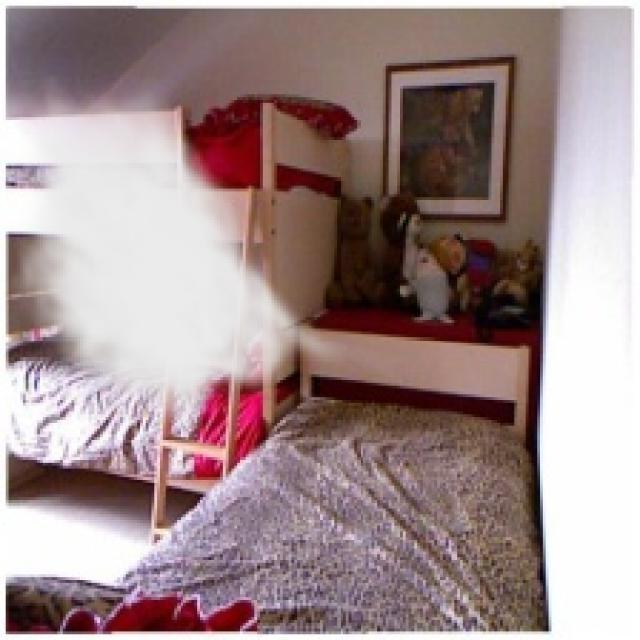Smoke: (9, 74, 352, 434)
